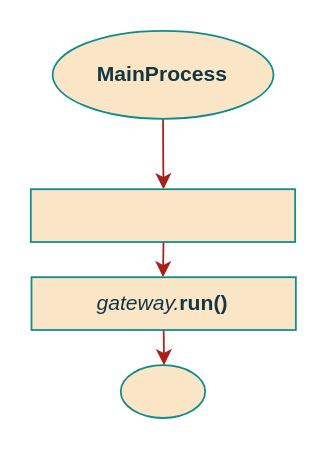
Some shapes in this 327 by 449 pixel diagram are drawn without their labels. Here are the shapes that lost their labels. From the top down, the centre of each, then its label:
pixel 162 214: Create CGateway gateway
pixel 162 390: end
